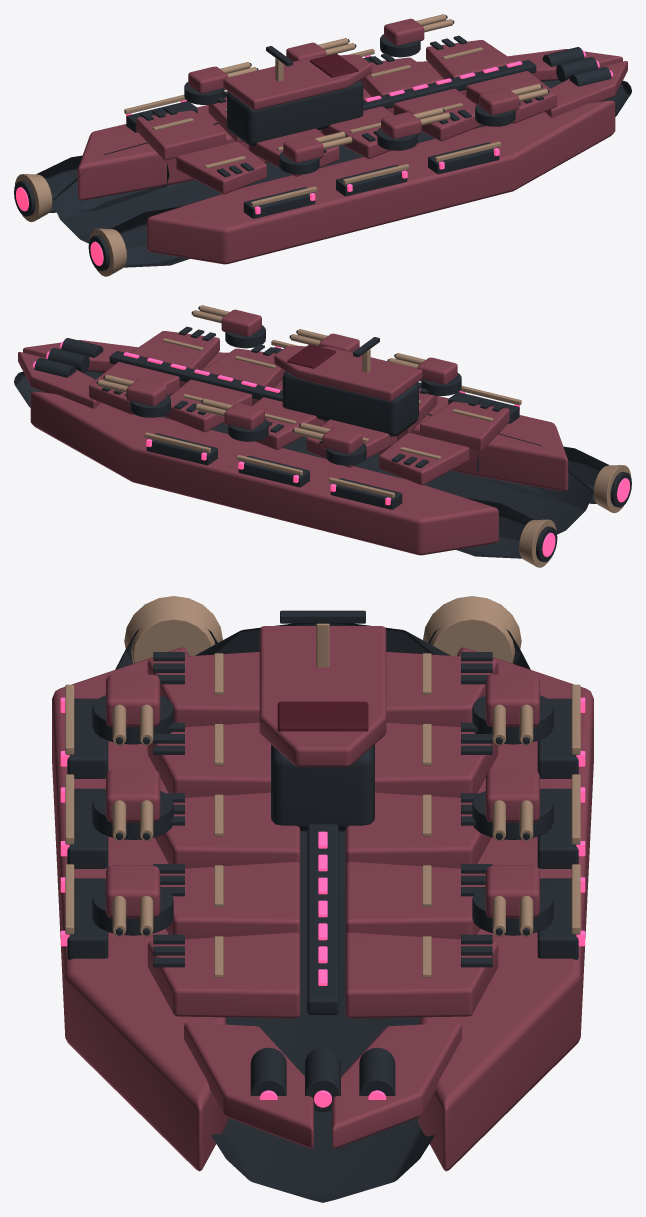
File: carrier-v2.glb
The picture shows the model from 3 angles, top to bottom: view 1: azimuth 30°, elevation 25°; view 2: azimuth 150°, elevation 25°; view 3: azimuth 270°, elevation 25°; orthographic projection. The views are drawn at different scales.
Parts seen in each view (by area): view 1: flank armoured sponson, flank armoured sponson.001, carrier structural keel, central command citadel, citadel armour, separated deck armour.005, separated deck armour, separated deck armour.003, separated deck armour.009, forward ram ceramic, separated deck armour.008, drive nacelle (+34 smaller); view 2: flank armoured sponson.001, flank armoured sponson, carrier structural keel, central command citadel, citadel armour, separated deck armour, separated deck armour.005, separated deck armour.008, separated deck armour.004, forward ram ceramic.001, separated deck armour.003, drive nacelle.001 (+34 smaller); view 3: flank armoured sponson.001, flank armoured sponson, carrier structural keel, citadel armour, separated deck armour.004, separated deck armour.009, separated deck armour.003, separated deck armour.008, forward ram ceramic, forward ram ceramic.001, separated deck armour.002, separated deck armour.007 (+31 smaller).
Boxes of the visible parts, x1,y1,x2,y2 form: flank armoured sponson: (147, 100, 615, 264); flank armoured sponson.001: (77, 61, 476, 200); carrier structural keel: (52, 79, 631, 243); central command citadel: (227, 80, 363, 145); citadel armour: (223, 54, 371, 110); separated deck armour.005: (136, 110, 225, 160); separated deck armour: (176, 141, 266, 194); separated deck armour.003: (393, 88, 482, 141); separated deck armour.009: (426, 40, 514, 79); forward ram ceramic: (545, 61, 627, 117); separated deck armour.008: (361, 57, 442, 96); drive nacelle: (111, 206, 189, 267); flank armoured sponson.001: (30, 391, 498, 555); flank armoured sponson: (169, 352, 568, 491); carrier structural keel: (14, 370, 593, 534); central command citadel: (282, 371, 418, 436); citadel armour: (274, 345, 422, 401); separated deck armour: (420, 401, 509, 451); separated deck armour.005: (379, 432, 469, 485); separated deck armour.008: (163, 379, 252, 432); separated deck armour.004: (131, 331, 219, 370); forward ram ceramic.001: (18, 352, 100, 408); separated deck armour.003: (203, 348, 284, 387); drive nacelle.001: (456, 497, 534, 558); flank armoured sponson.001: (418, 647, 593, 1171); flank armoured sponson: (52, 647, 227, 1171); carrier structural keel: (195, 623, 450, 1202); citadel armour: (259, 626, 386, 766); separated deck armour.004: (147, 932, 300, 1018); separated deck armour.009: (345, 932, 498, 1018); separated deck armour.003: (160, 861, 300, 939); separated deck armour.008: (345, 861, 485, 939); forward ram ceramic: (184, 1022, 313, 1148); forward ram ceramic.001: (332, 1022, 461, 1148); separated deck armour.002: (154, 792, 300, 868); separated deck armour.007: (345, 792, 491, 868).
Size of the model in its own units: 290 by 76 by 120.
